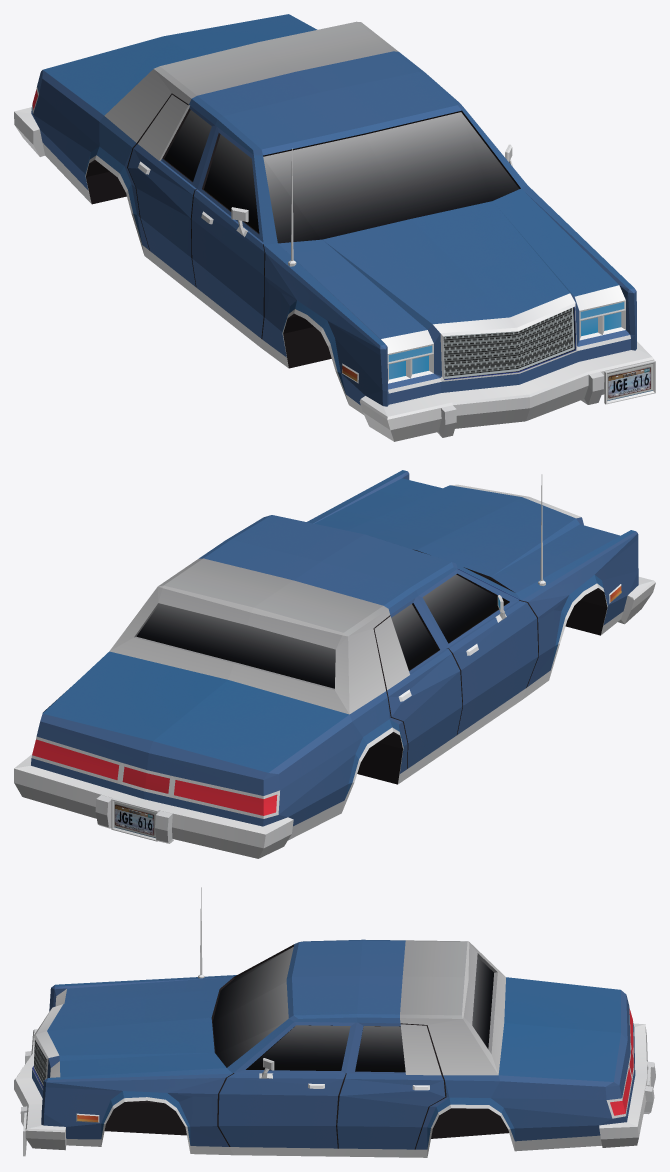
The model's file is chrysler.obj.
The picture shows the model from 3 angles, top to bottom: view 1: azimuth 30°, elevation 25°; view 2: azimuth 150°, elevation 25°; view 3: azimuth 270°, elevation 25°; orthographic projection. The views are drawn at different scales.
Parts seen in each view (by area): view 1: Crysler_Mesh; view 2: Crysler_Mesh; view 3: Crysler_Mesh.
Boxes of the visible parts, x1,y1,x2,y2 form: Crysler_Mesh: (14,14,655,441); Crysler_Mesh: (14,470,655,858); Crysler_Mesh: (14,887,655,1157).
Size of the model in its own units: 8.73 by 6.29 by 21.07.
Materials: 1 (1 with a texture image).
